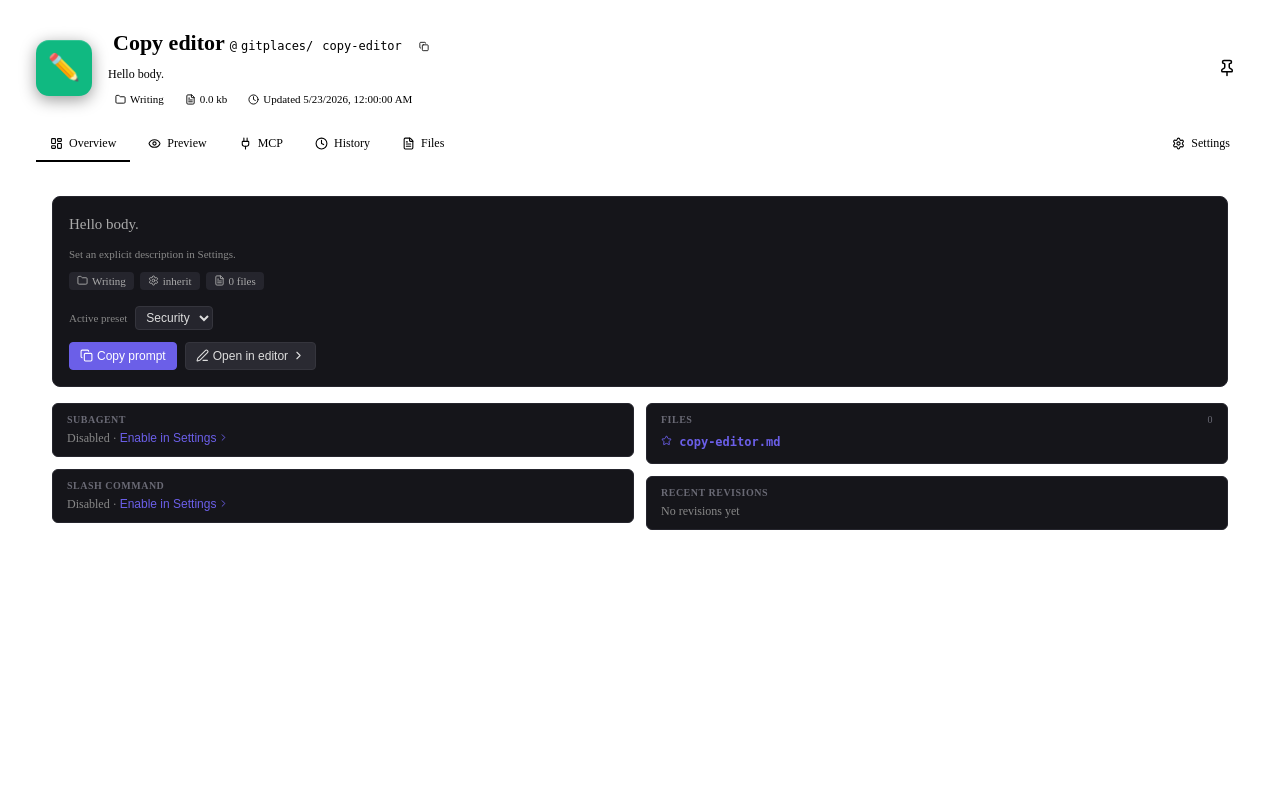
AgentDetail — MCP tab › renders preset sub-handle URIs when the agent has presets
Expected: the heading "Copy editor" is shown, 108,28 -> 230,58
Click the tab "MCP".
click(261, 142)  # box 225,123 -> 297,162
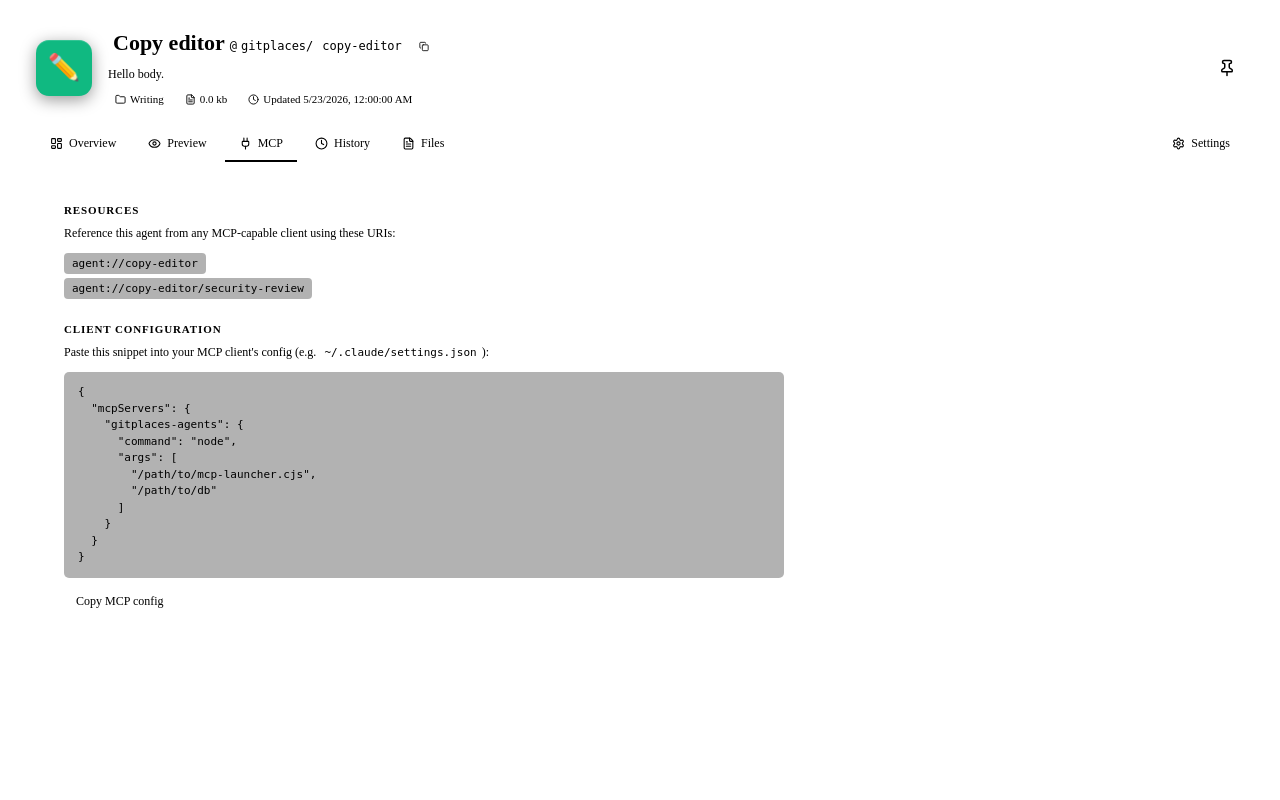
Expected: the text "agent://copy-editor/security-review" is shown, 64,278 -> 312,299
